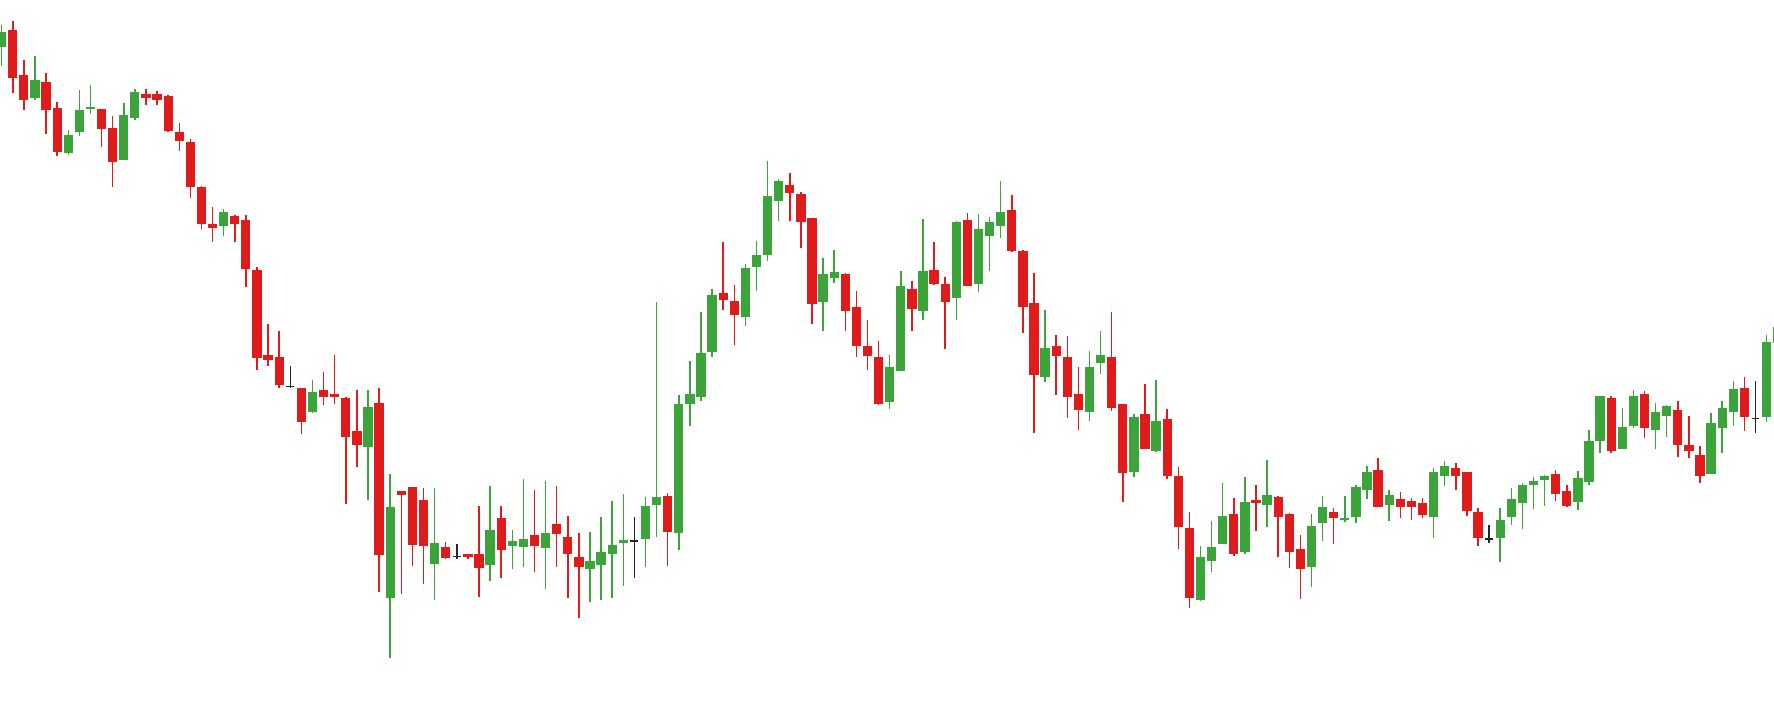sell: (916, 184, 1017, 291)
